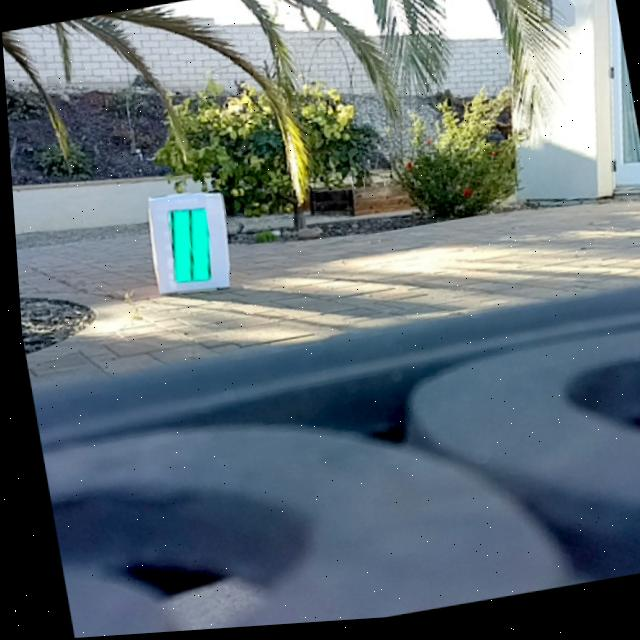led: (161, 207, 211, 287)
